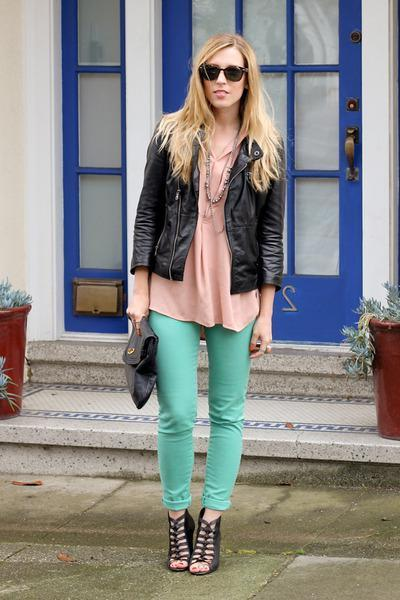jacket: (125, 112, 292, 294)
short sleeve shirt: (138, 123, 262, 329)
trousers: (149, 298, 262, 512)
